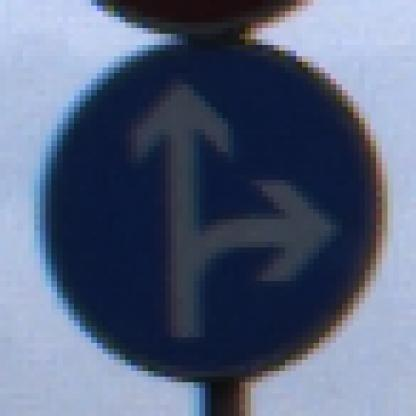Straight or Right: (35, 35, 383, 383)
